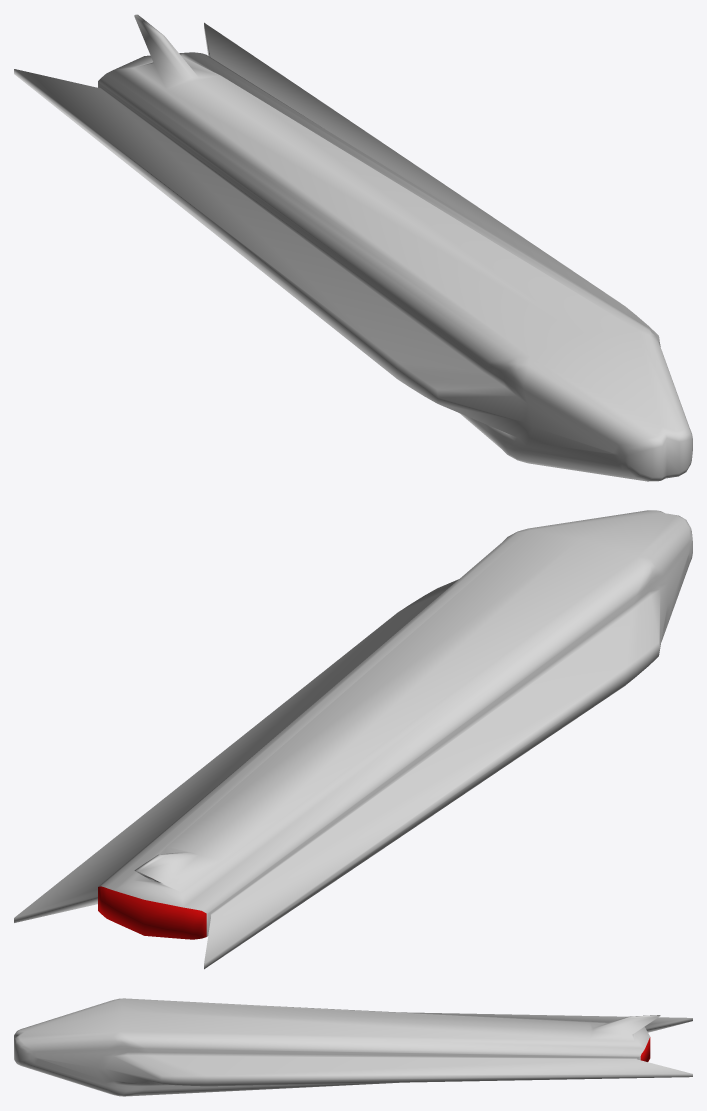
The model's file is SM_LW_VehicleGunRocket.fbx.
The picture shows the model from 3 angles, top to bottom: view 1: azimuth 30°, elevation 25°; view 2: azimuth 150°, elevation 25°; view 3: azimuth 270°, elevation 25°; orthographic projection. The views are drawn at different scales.
Visible parts, largest first — view 1: Cube; view 2: Cube; view 3: Cube.
Part boxes in pixels (<box>): Cube: <box>14,14,692,481</box>; Cube: <box>14,510,692,969</box>; Cube: <box>14,998,692,1096</box>.
Size of the model in its own units: 18.12 by 9.13 by 77.45.
